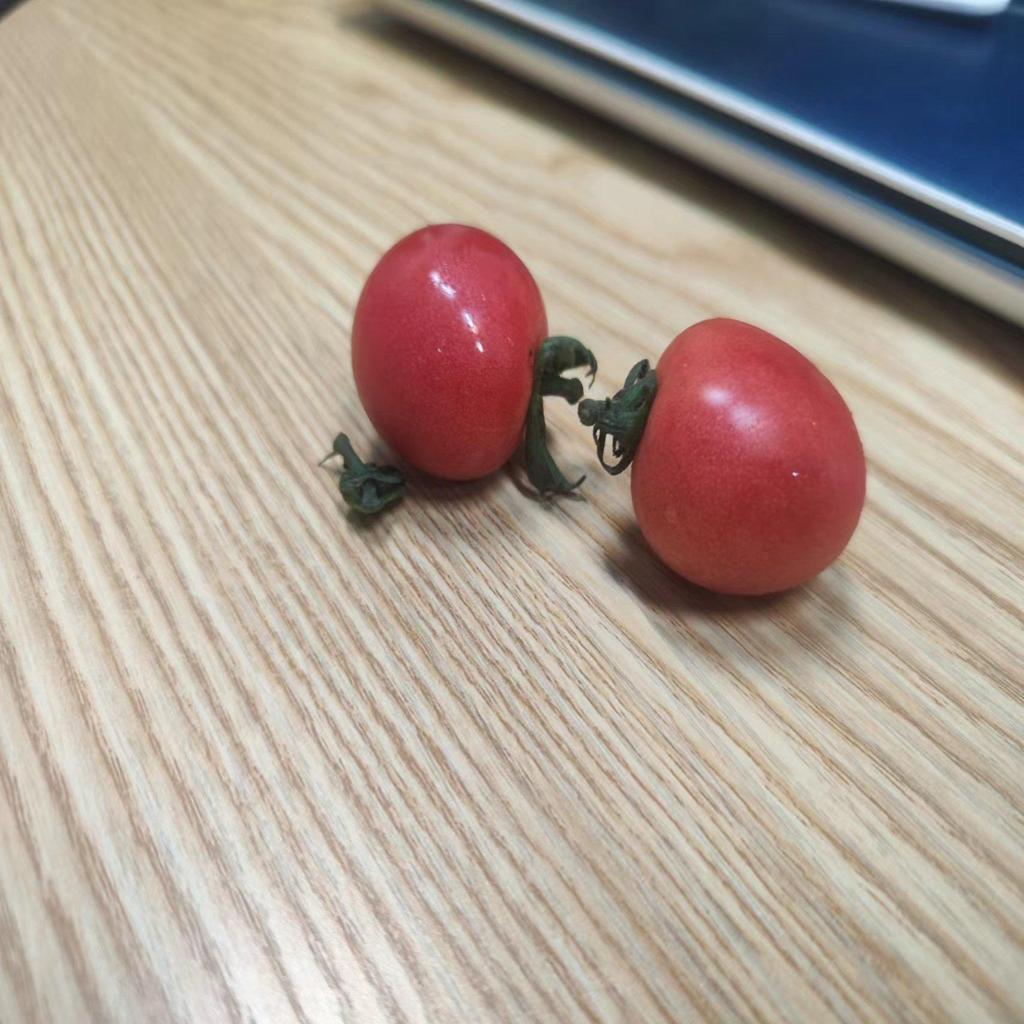tomato: (636, 328, 883, 606), (352, 229, 569, 475)
